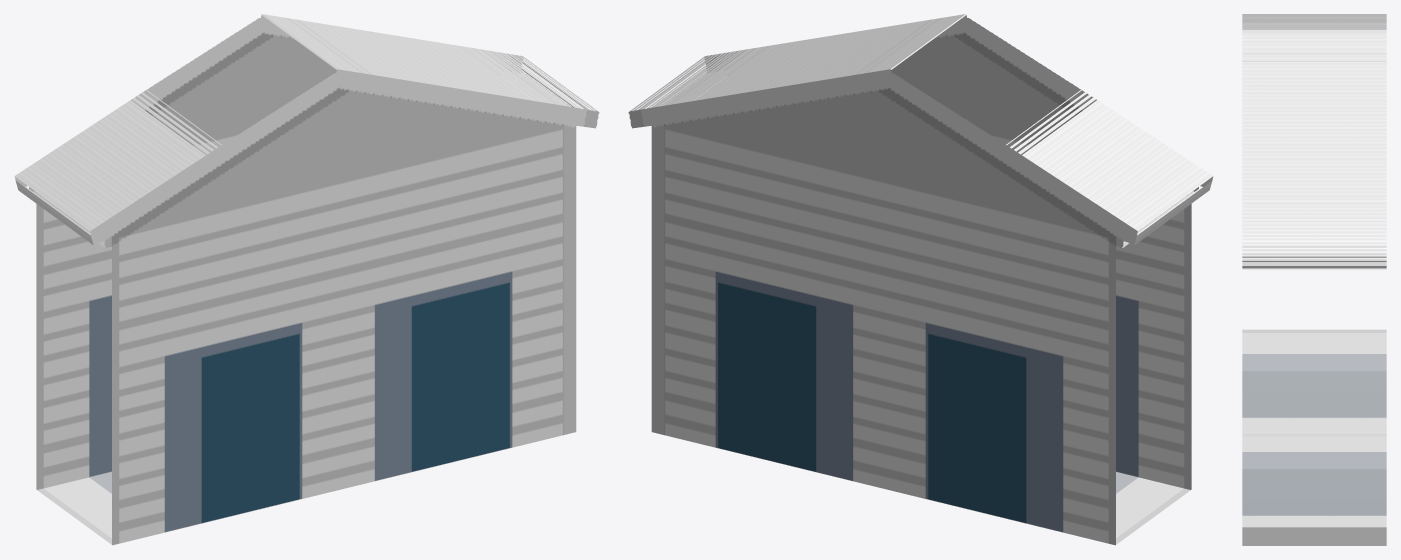
File: warehouseClose.FBX
3 renders of one model, left to right at view 1: azimuth 30°, elevation 25°; view 2: azimuth 150°, elevation 25°; view 3: azimuth 270°, elevation 25°, orthographic. The views are drawn at different scales.
Visible parts, largest first — view 1: warehouseClose; view 2: warehouseClose; view 3: warehouseClose.
Part boxes in pixels (bbox=[...]): warehouseClose: bbox=[14, 14, 599, 545]; warehouseClose: bbox=[628, 14, 1213, 545]; warehouseClose: bbox=[1242, 14, 1386, 545].
Size of the model in its own units: 49.68 by 39.21 by 12.73.
1 material, 1 textured.
